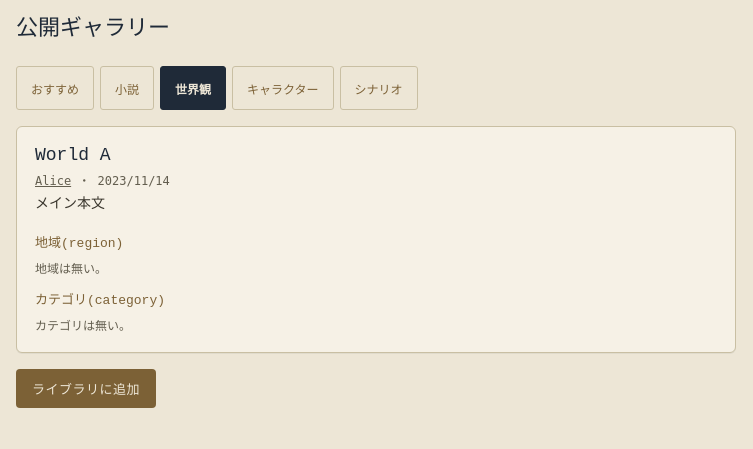
Scenario: Gallery › imports a world directly and shows a success message
Expected: the text "メイン本文" is shown, top-left (35, 196), bottom-right (105, 211)
Click the button "ライブラリに追加": (86, 388) top-left (16, 369), bottom-right (156, 408)
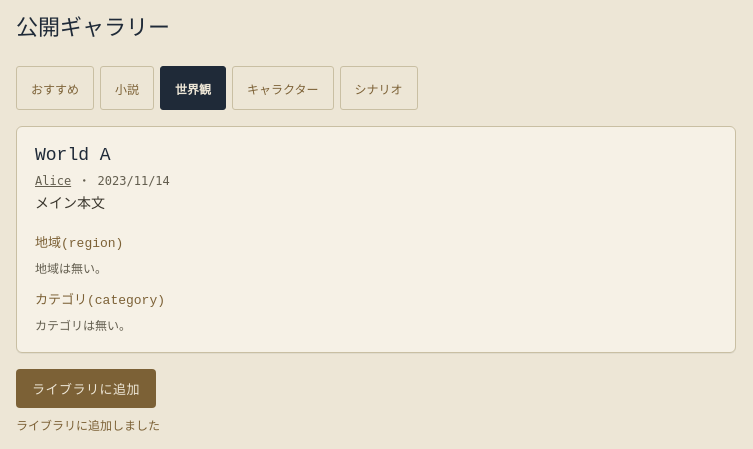
Result: the text "ライブラリに追加しました" is shown at top-left (16, 419), bottom-right (160, 433)
